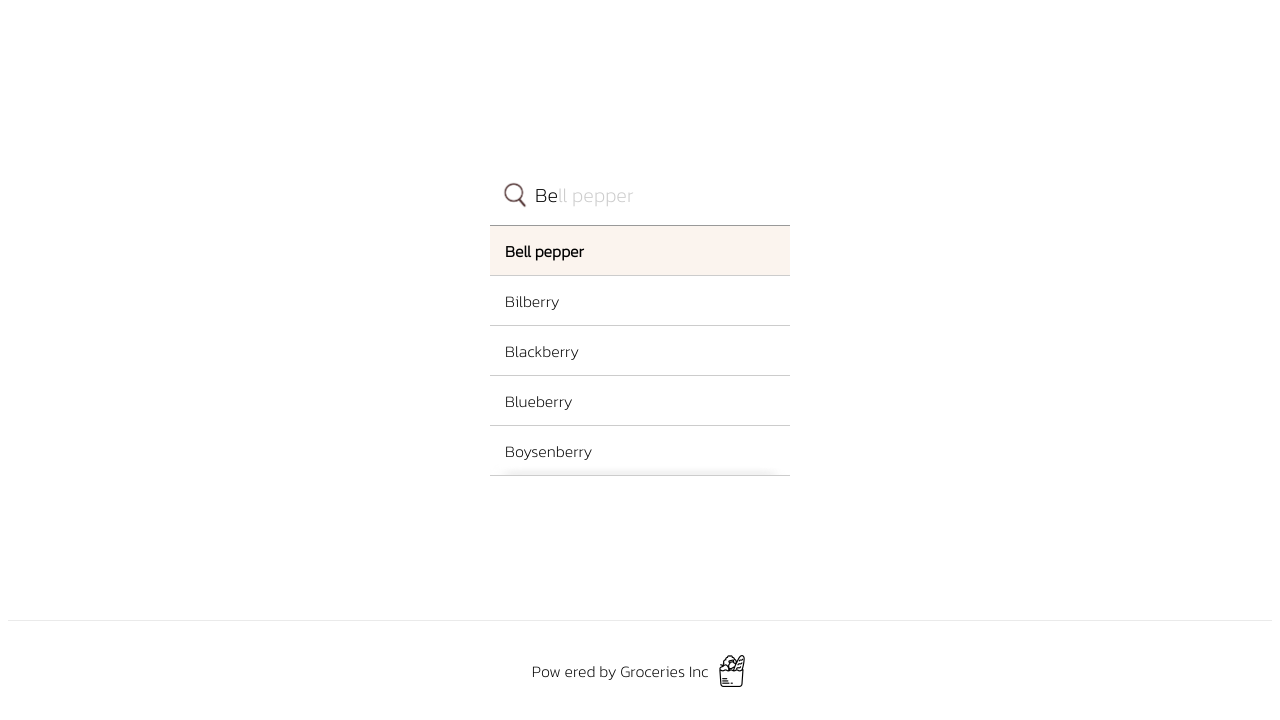
Test: Nav Menus › 720p resolution › When you visit home › When you search › Should show pre input unmatched suggestion
Type "rry" into the field with test id "autocomplete-input" at {"x": 640, "y": 193}, box [490,160,790,226]
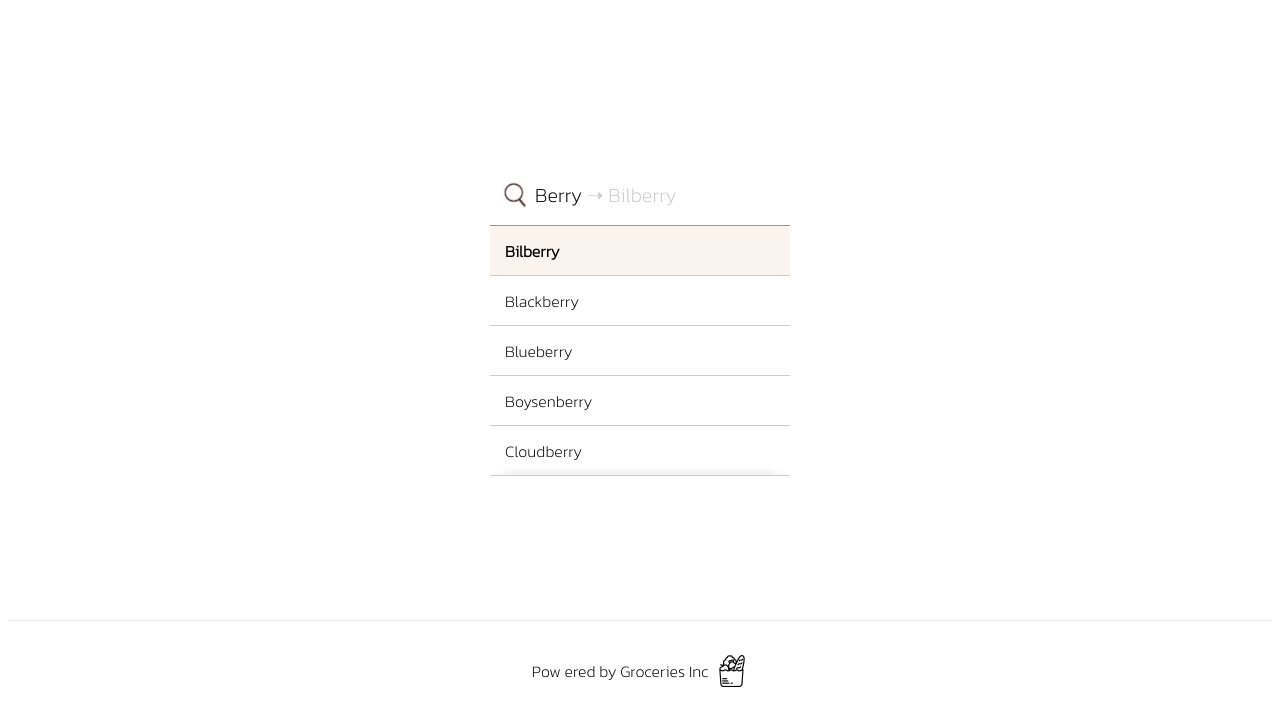
Check: the field with test id "autocomplete-pre-input" holds "Berry ➝ Bilberry", box [490,160,790,226]
